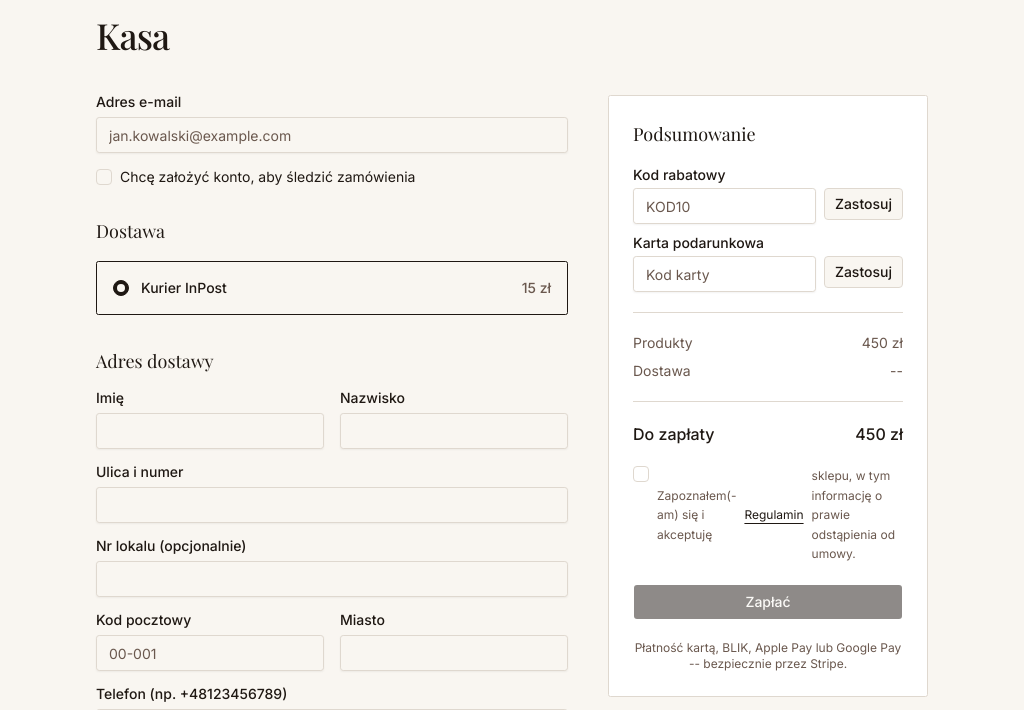
Test case: CheckoutPage -- mandatory terms acceptance › the handleSubmit validation also rejects an unaccepted-terms submit directly (defense in depth, not just the disabled attribute)
Type "jan@example.com" into the field labelled "Adres e-mail" at (332, 135), box [96,117,568,153]
Type "Jan" into the field labelled "Imię" at (210, 431), box [96,413,324,449]
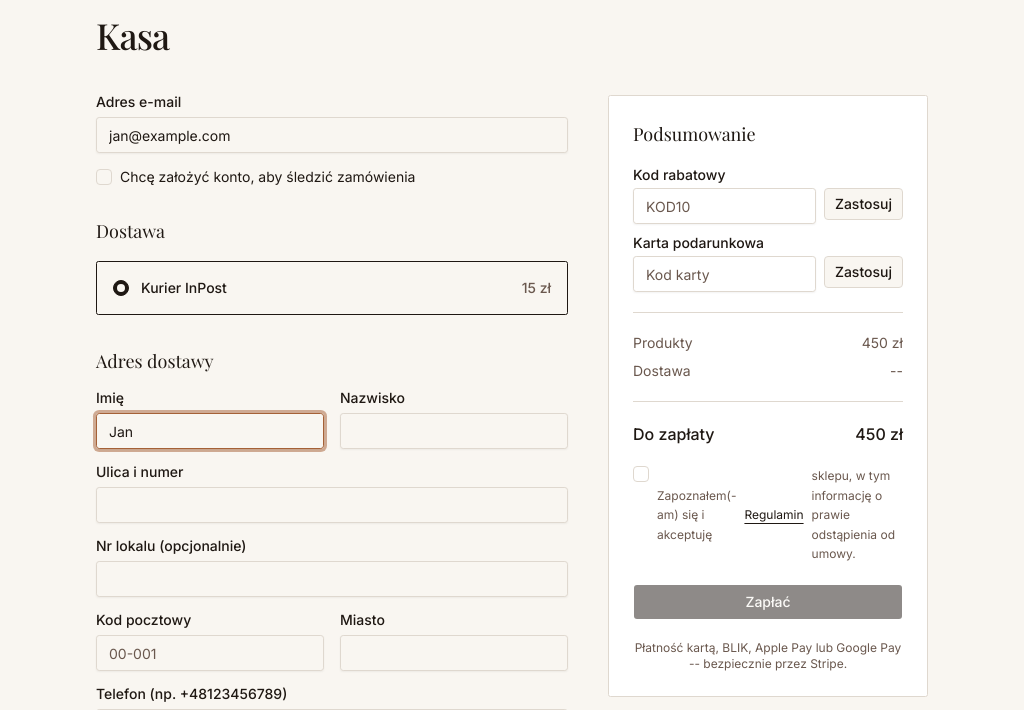
Type "Kowalski" into the field labelled "Nazwisko" at (454, 431), box [340,413,568,449]
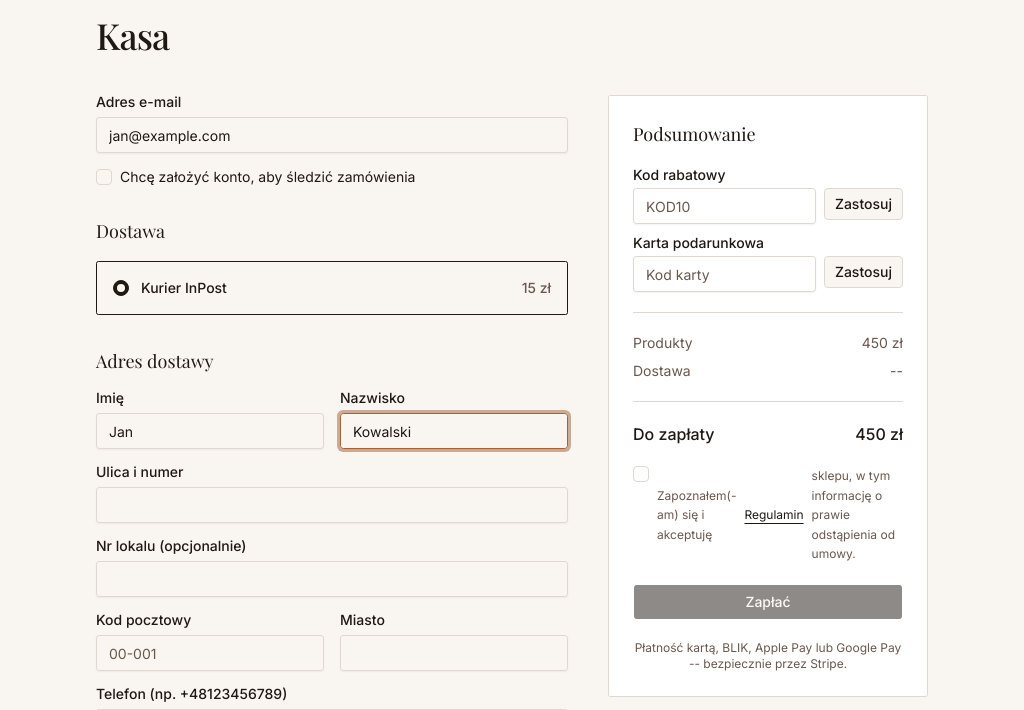
Type "Testowa 1" into the field labelled "Ulica i numer" at (332, 505), box [96,487,568,523]
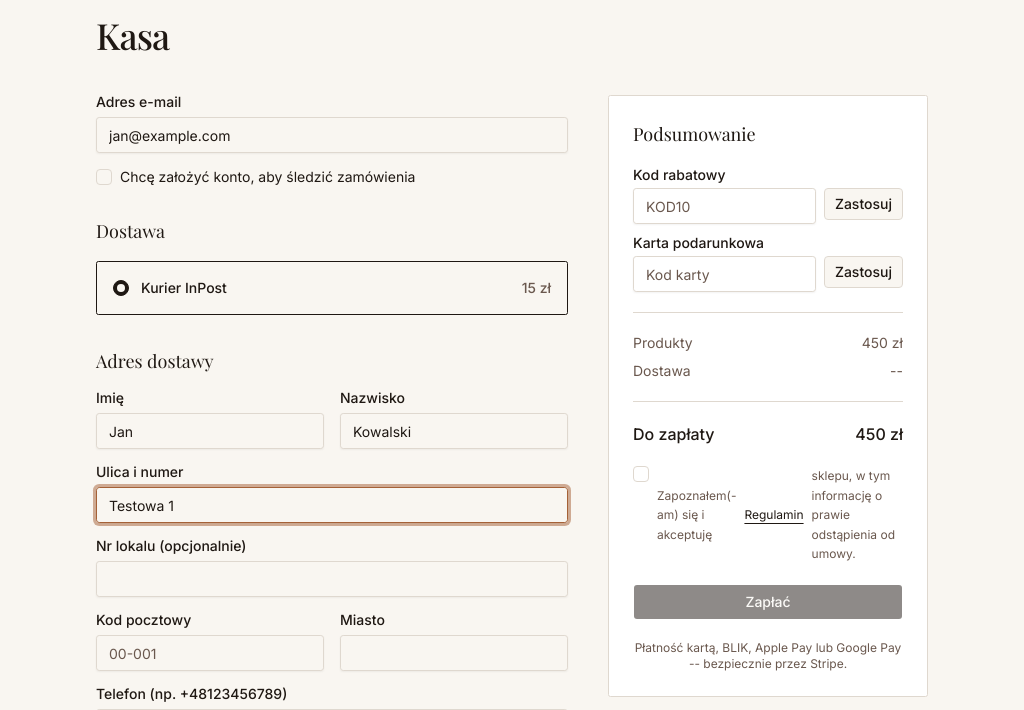
Type "Poznań" into the field labelled "Miasto" at (454, 653), box [340,635,568,671]
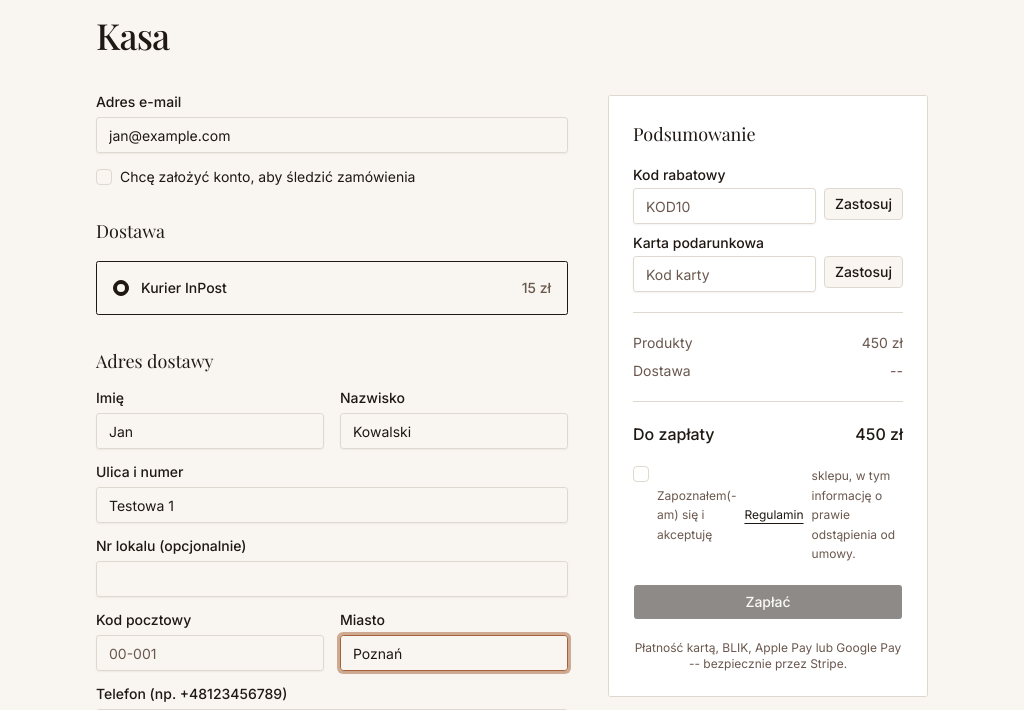
Type "60-000" into the field labelled "Kod pocztowy" at (210, 653), box [96,635,324,671]
(page scrolled)
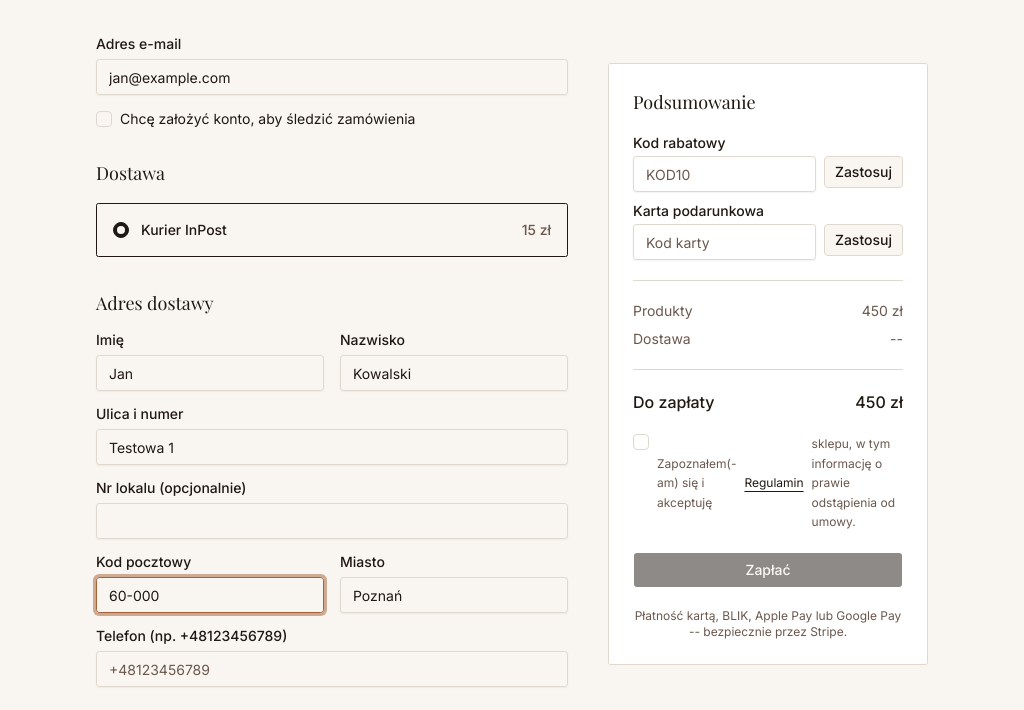
Submit the form named "Zapłać"
(page scrolled)
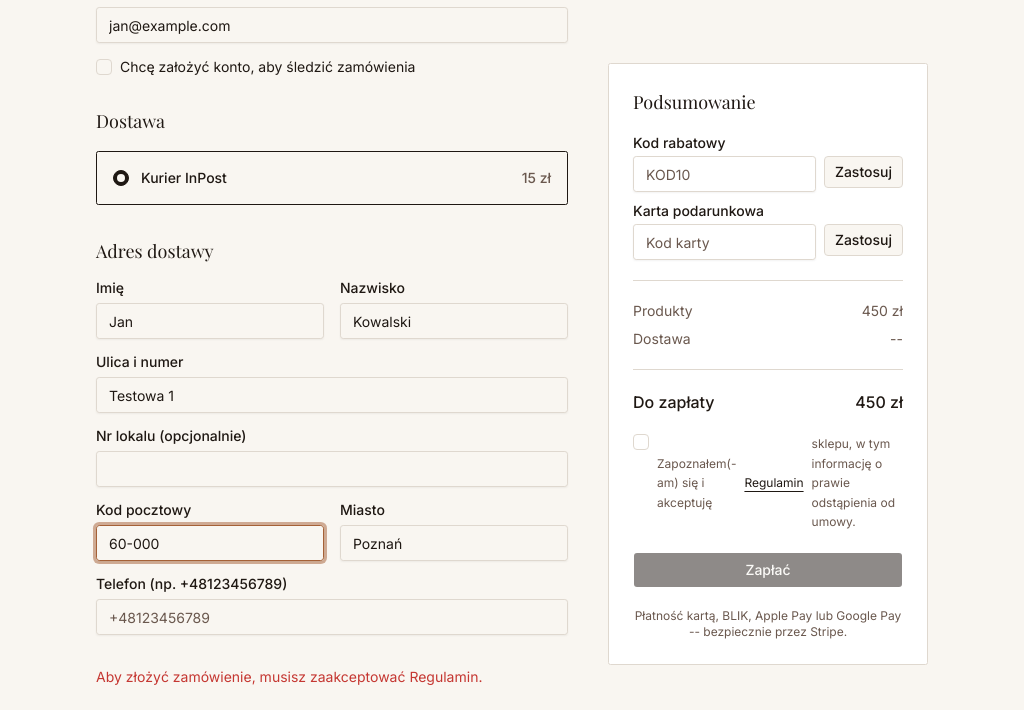
Check: the text "Aby złożyć zamówienie, musisz zaakceptować Regulamin." is shown, box [96,668,482,685]
